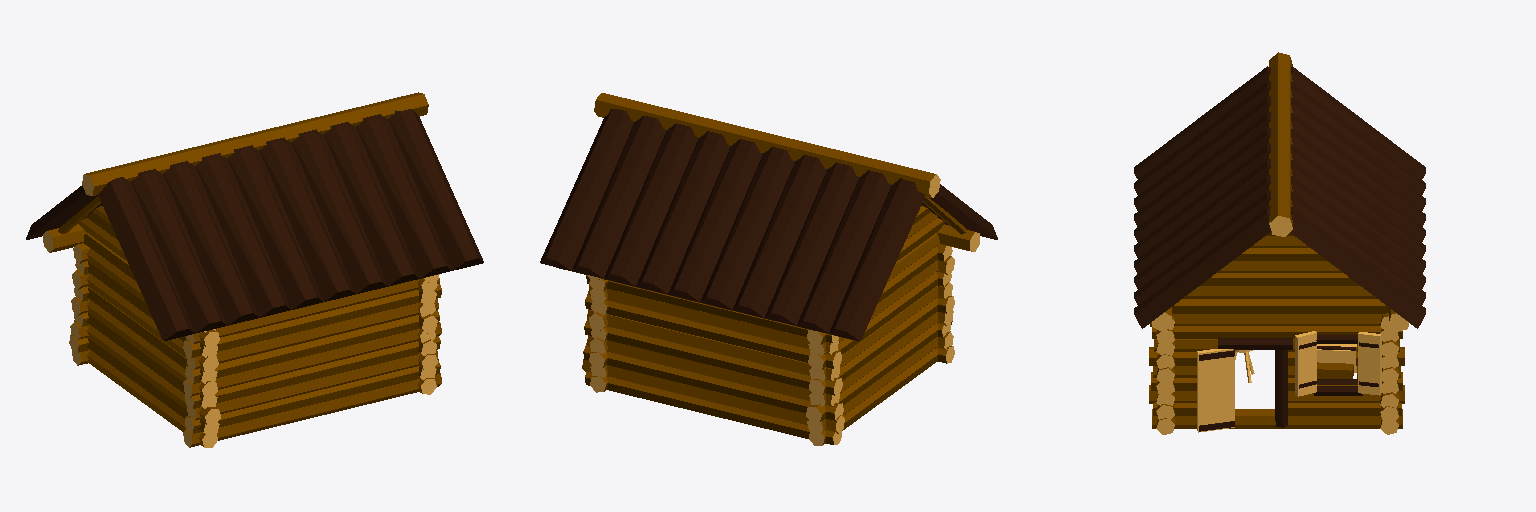
Rendered from cabin.obj.
The picture shows the model from 3 angles: view 1: azimuth 30°, elevation 25°; view 2: azimuth 150°, elevation 25°; view 3: azimuth 270°, elevation 25°; orthographic projection.
Size of the model in its own units: 9.74 by 6.78 by 7.35.